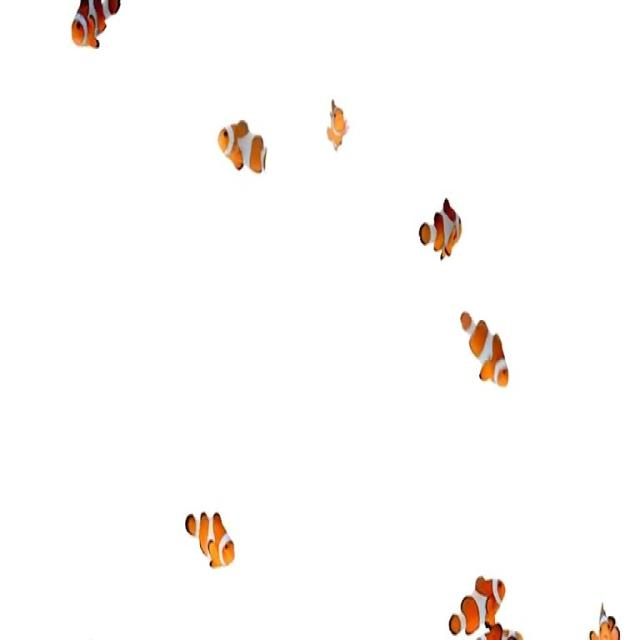fish: (210, 108, 274, 184), (460, 298, 511, 387), (183, 505, 237, 573), (449, 572, 504, 637), (414, 197, 465, 262), (70, 1, 122, 56), (324, 96, 351, 154)
